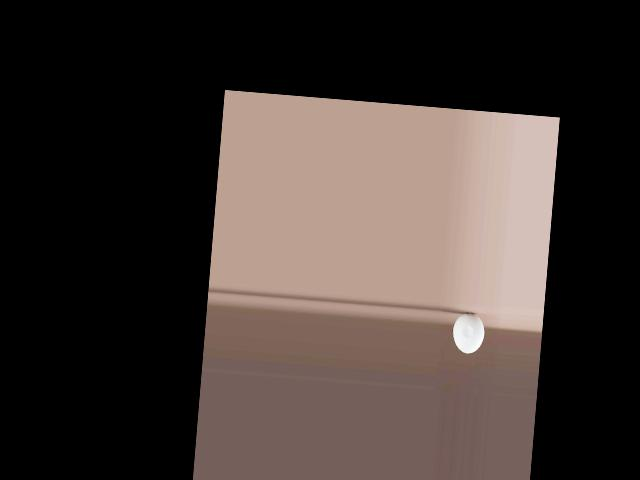egg: (451, 311, 485, 354)
